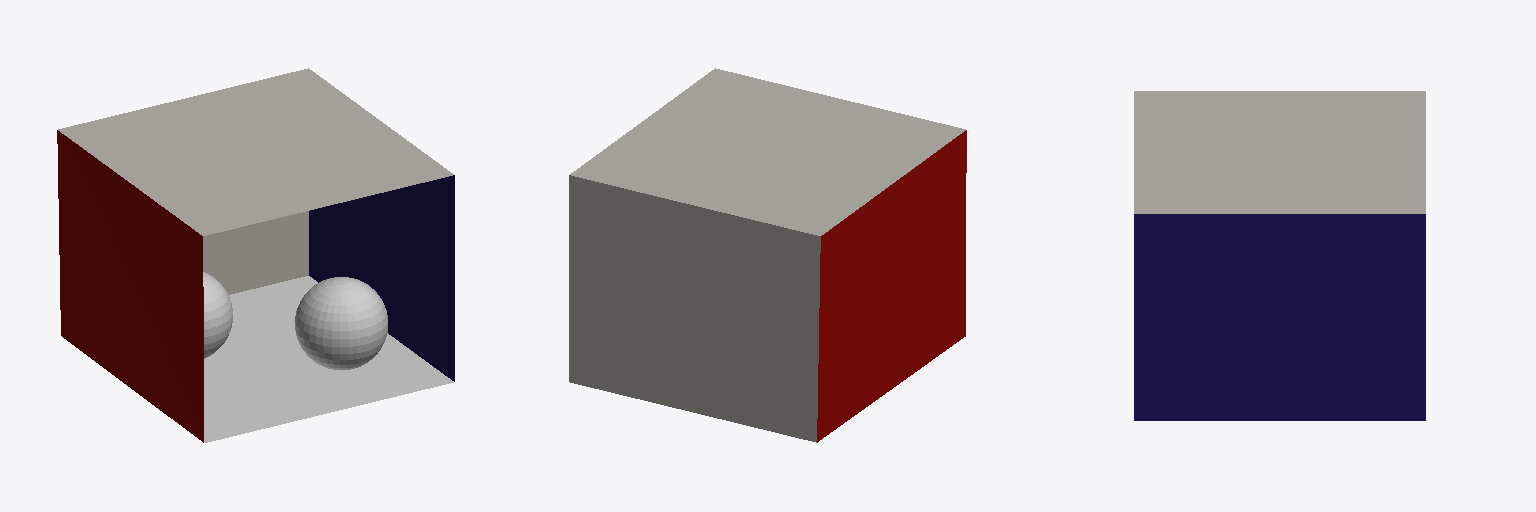
File: cornell-glossy-sphere.obj
3 views of the same model, side by side, from view 1: azimuth 30°, elevation 25°; view 2: azimuth 150°, elevation 25°; view 3: azimuth 270°, elevation 25° (orthographic).
Parts seen in each view (by area): view 1: ceiling, leftWall, floor, rightWall, rightSphere, backWall, leftSphere; view 2: backWall, ceiling, leftWall; view 3: rightWall, ceiling.
Boxes of the visible parts, x1=… form: ceiling: x1=58, y1=68, x2=453, y2=235; leftWall: x1=57, y1=130, x2=203, y2=442; floor: x1=204, y1=276, x2=453, y2=442; rightWall: x1=309, y1=175, x2=454, y2=381; rightSphere: x1=295, y1=277, x2=387, y2=369; backWall: x1=203, y1=211, x2=308, y2=294; leftSphere: x1=203, y1=272, x2=232, y2=358; backWall: x1=569, y1=175, x2=820, y2=442; ceiling: x1=570, y1=68, x2=965, y2=235; leftWall: x1=817, y1=130, x2=966, y2=442; rightWall: x1=1134, y1=214, x2=1425, y2=420; ceiling: x1=1134, y1=91, x2=1425, y2=213.
Bounding box in the file's own units: 2.02 × 1.59 × 2.03.